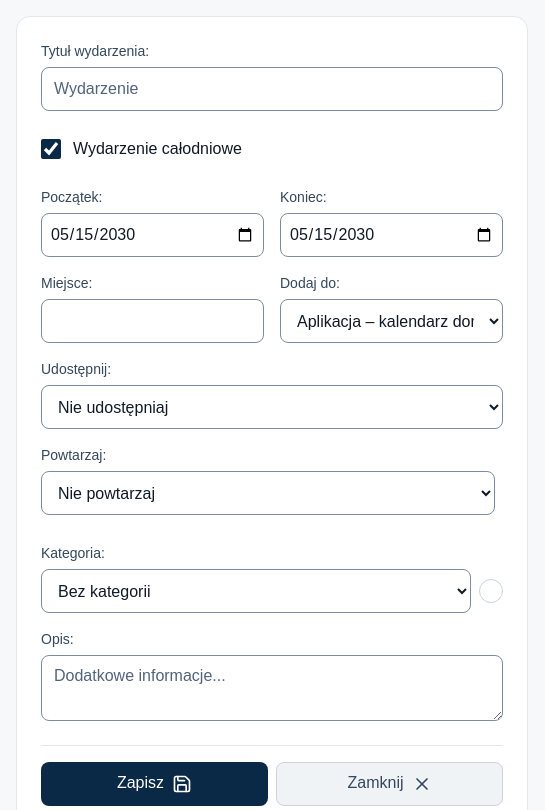
Test case: EventForm – godziny wydarzenia › szybkie opcje 30 min i 2 h ustawiają koniec
Click the checkbox labelled "Wydarzenie całodniowe" at (51, 149), box top-left (41, 139), bottom-right (61, 159)
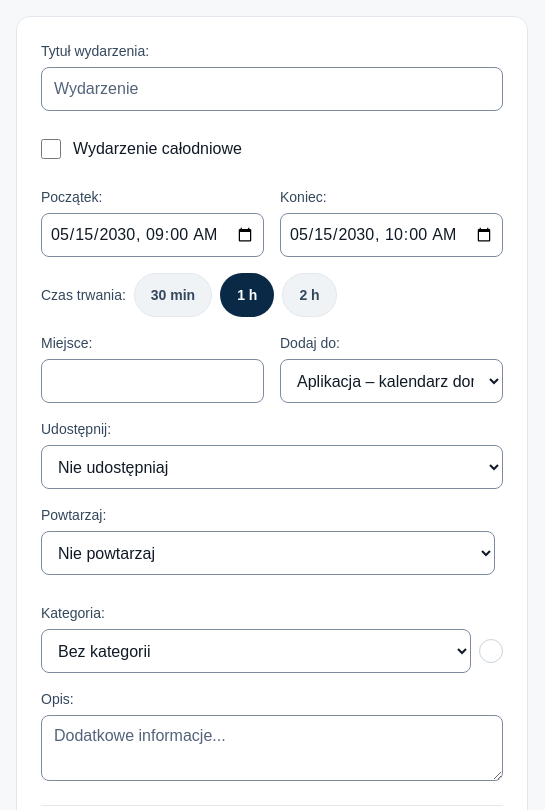
Click the button "30 min" at (173, 295), box top-left (134, 273), bottom-right (212, 317)
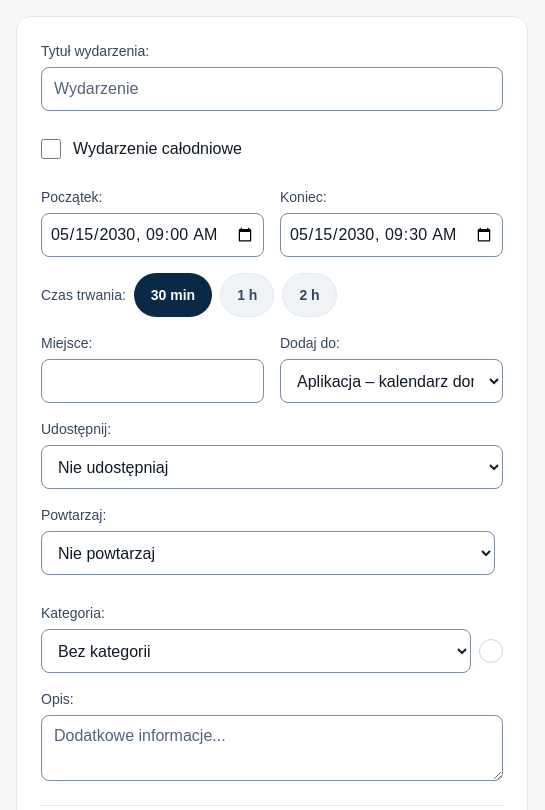
Result: the field labelled "Koniec:" holds "2030-05-15T09:30" at top-left (280, 213), bottom-right (503, 257)
Click the button "2 h" at (310, 295), box top-left (282, 273), bottom-right (337, 317)
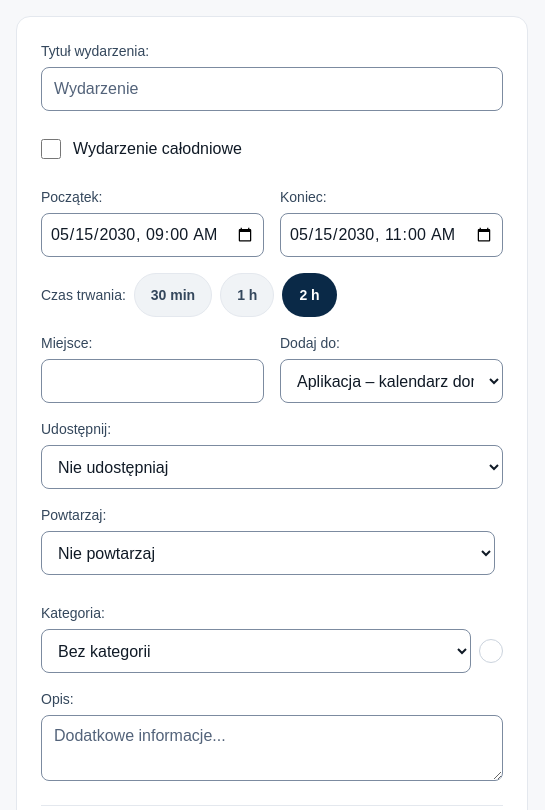
Result: the field labelled "Koniec:" holds "2030-05-15T11:00" at top-left (280, 213), bottom-right (503, 257)
Replace the text in the field labelled "Początek:" with "2030-05-15T13:00" at (152, 235), box top-left (41, 213), bottom-right (264, 257)
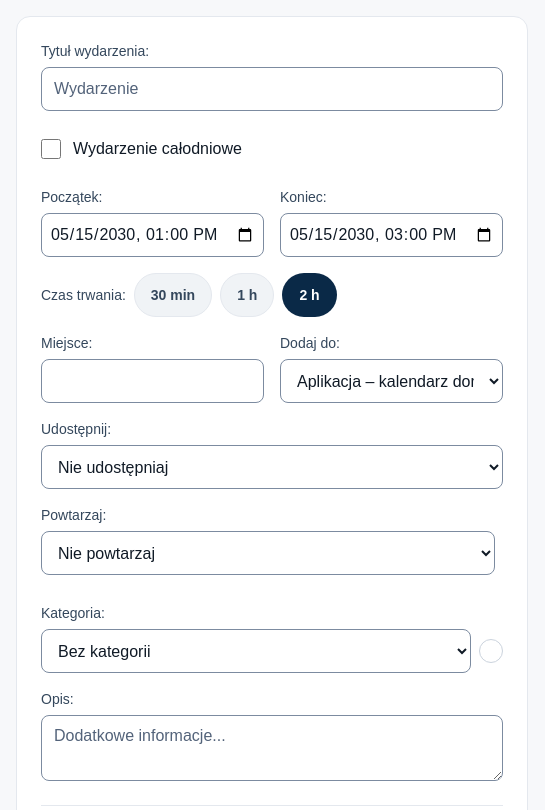
Result: the field labelled "Koniec:" holds "2030-05-15T15:00" at top-left (280, 213), bottom-right (503, 257)
